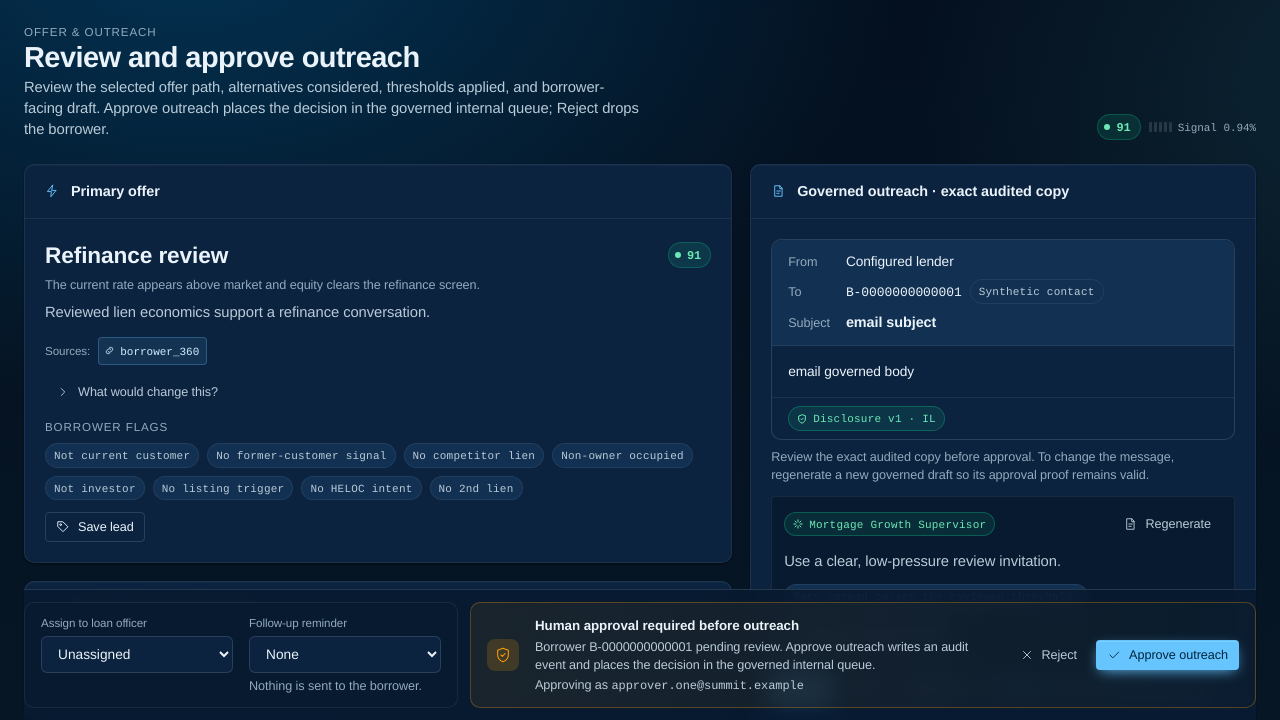
Test: Offer prior decisions › the reject reason has no default › Cancel resets the reason, so a reopened review starts on "Choose a reason" again
Click the button "Reject": (1048, 655) [1008,640,1088,670]
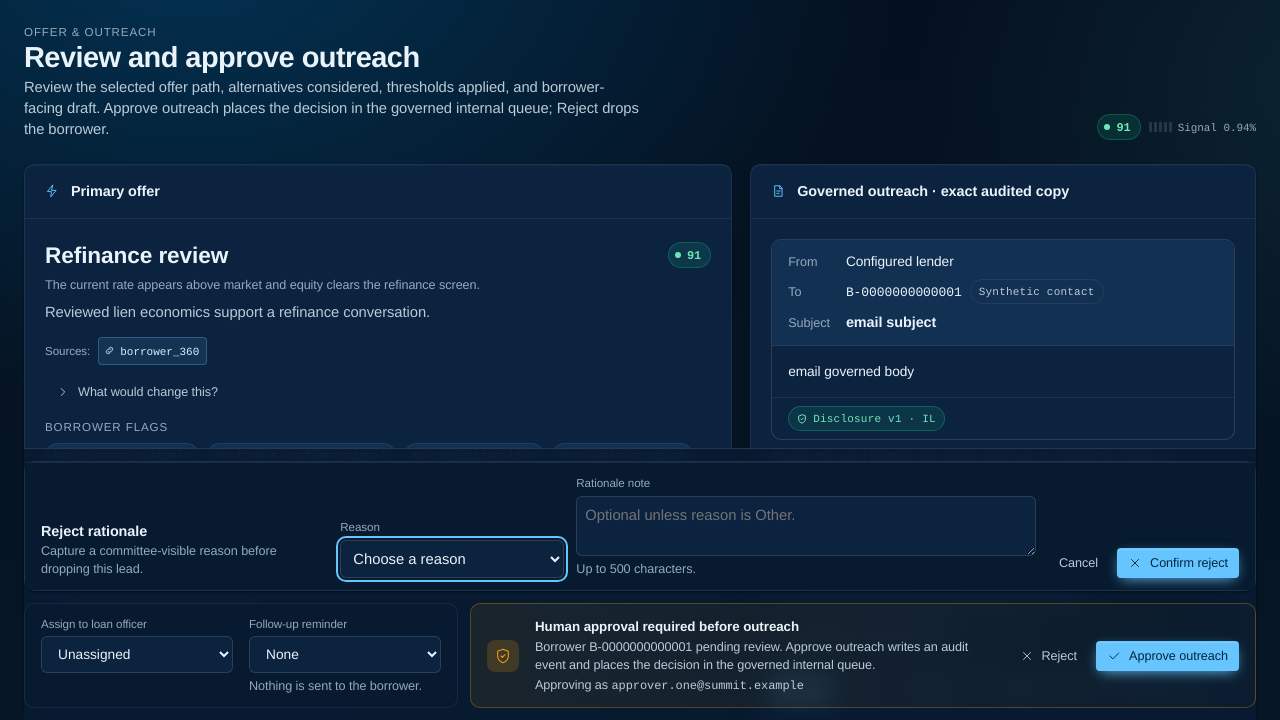
Select "Low intent" in the dropdown labelled "Reason": (452, 558) [340,540,564,578]
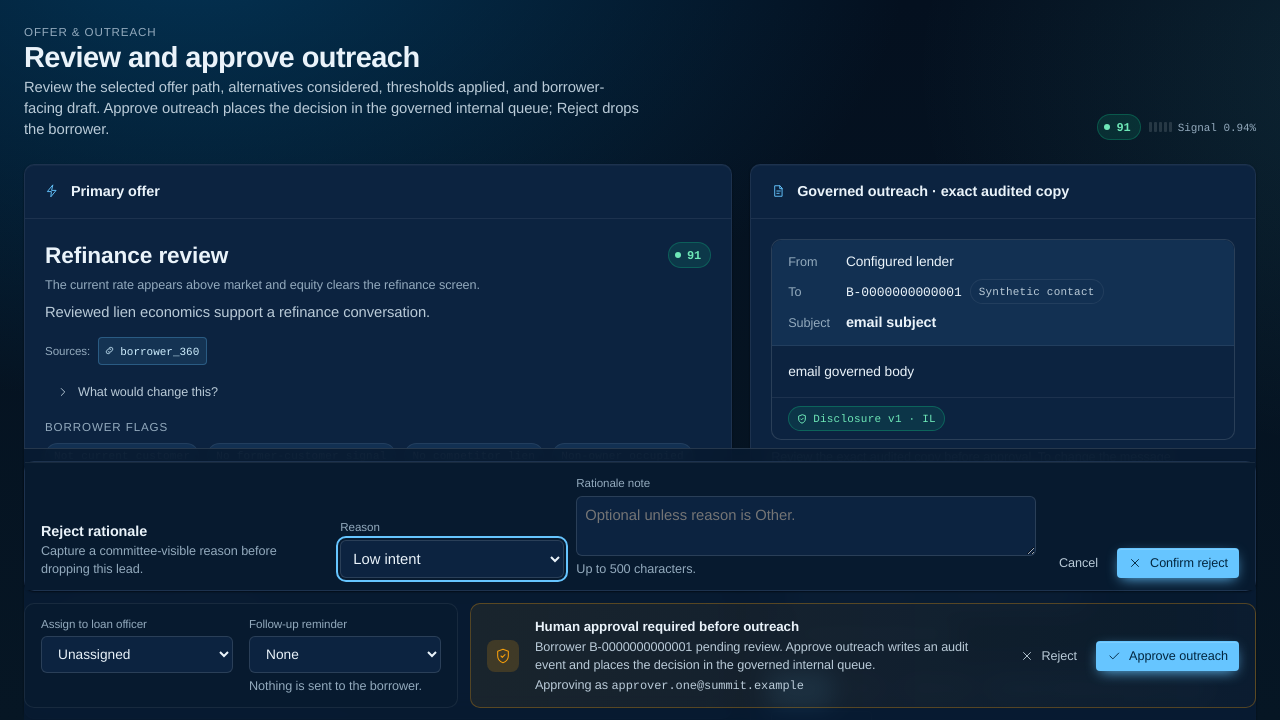
Click the button "Cancel": (1078, 562) [1048,548,1109,578]
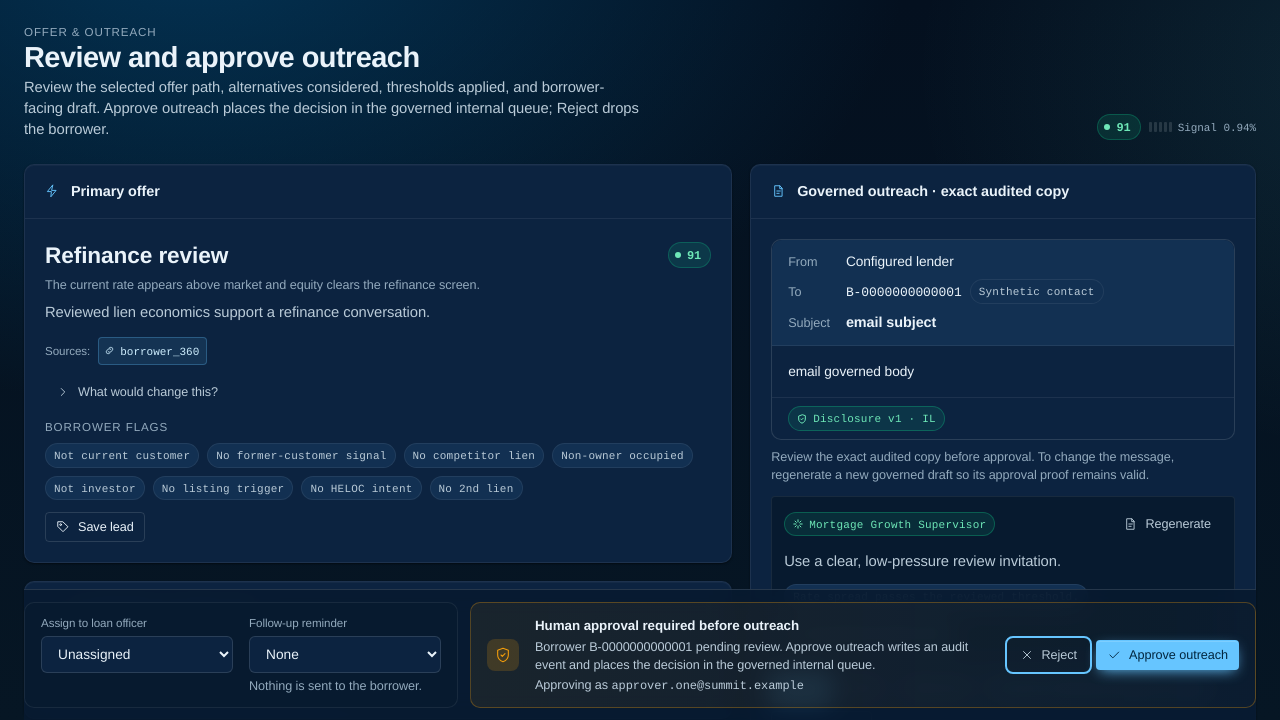
Click the button "Reject": (1048, 655) [1008,640,1088,670]
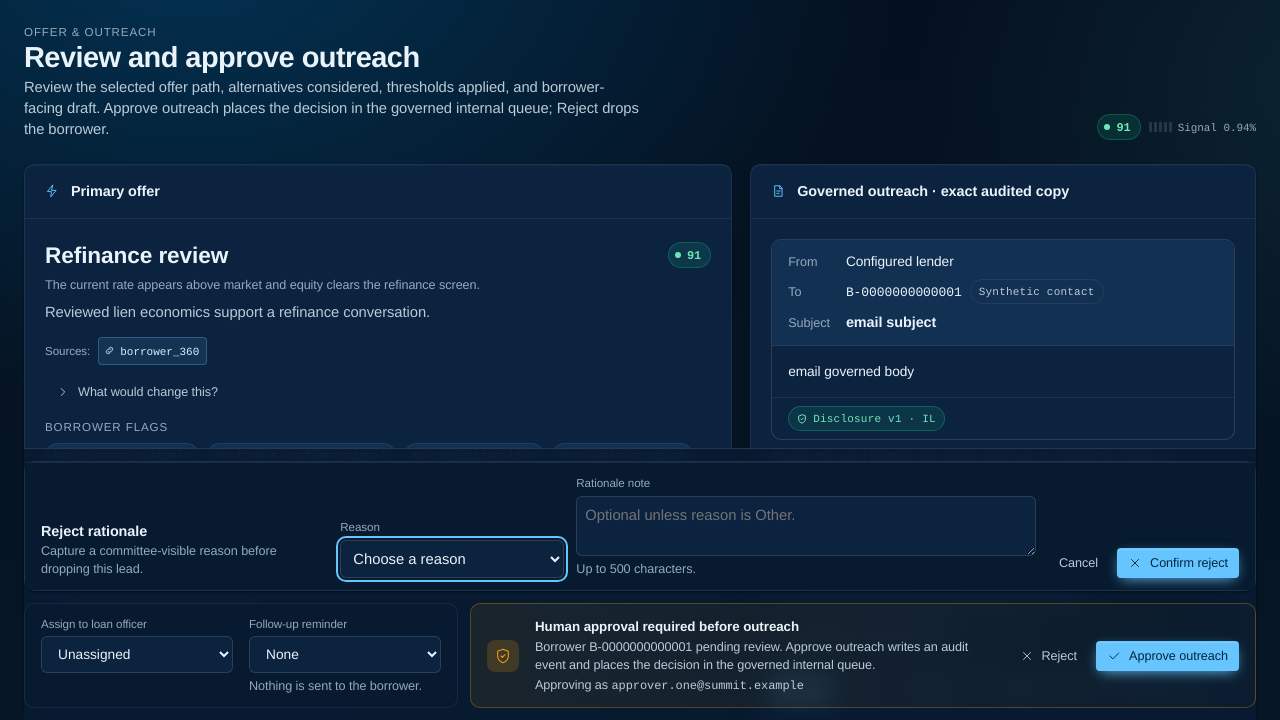
expect the dropdown labelled "Reason" shows "Choose a reason": met, box [340,540,564,578]
